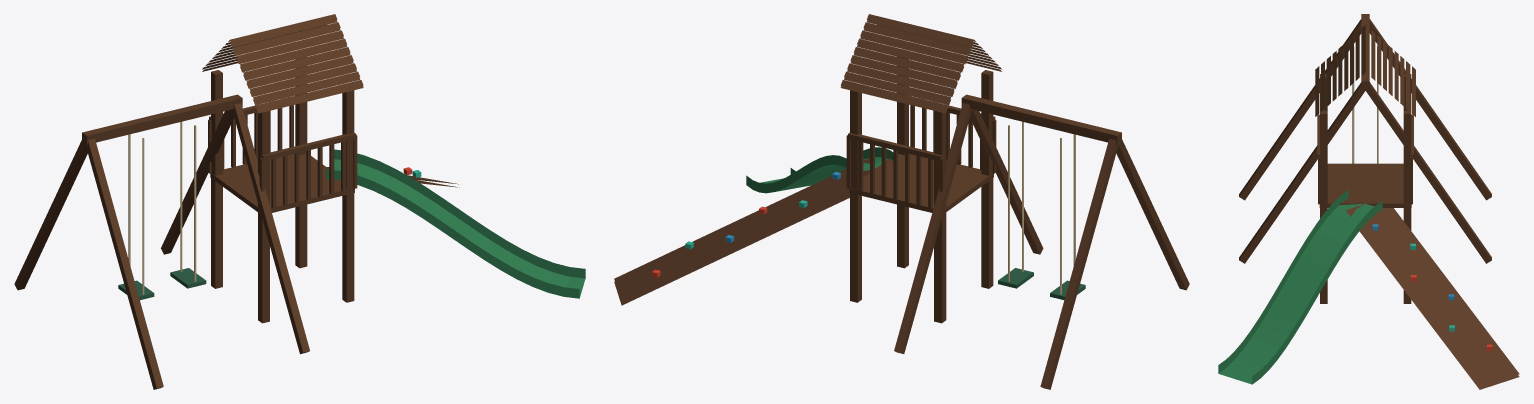
3 renders of one model, left to right at view 1: azimuth 30°, elevation 25°; view 2: azimuth 150°, elevation 25°; view 3: azimuth 270°, elevation 25°, orthographic. The views are drawn at different scales.
Parts seen in each view (by area): view 1: SW-T209; view 2: SW-T209; view 3: SW-T209.
Boxes of the visible parts, x1=… form: SW-T209: x1=14, y1=14, x2=585, y2=389; SW-T209: x1=614, y1=14, x2=1189, y2=389; SW-T209: x1=1218, y1=14, x2=1519, y2=389.
Bounding box in the file's own units: 5.7 × 3.3 × 3.8.
